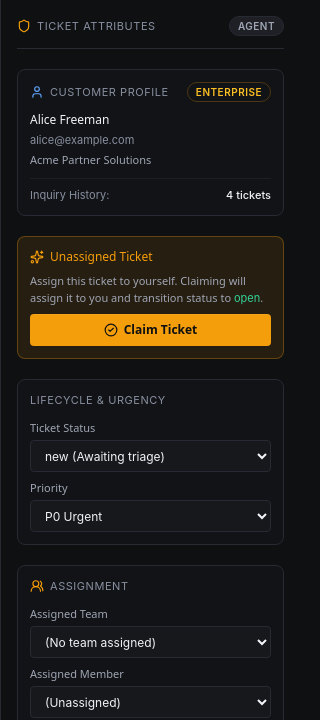
TicketCockpit.Inspector & TicketMetadataInspector (Issue #105) › renders 1-click Claim Ticket CTA for unassigned ticket and transitions status new -> open
This screenshot has width=320, height=720.
Expected: the text "Unassigned Ticket" is shown, x1=50 y1=249 x2=153 y2=265
Click the button with test id "claim-ticket-btn".
click(150, 330)  # box x1=30 y1=314 x2=271 y2=346
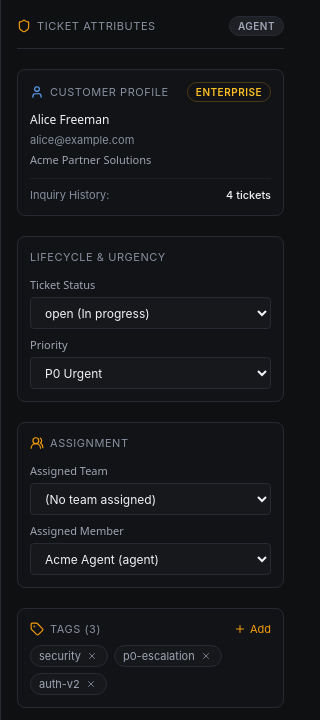
Result: the dropdown with test id "inspector-status-select" shows "open (In progress)" at x1=30 y1=297 x2=271 y2=329
Result: the dropdown with test id "inspector-member-select" shows "Acme Agent (agent)" at x1=30 y1=543 x2=271 y2=575
Result: the button with test id "claim-ticket-btn" is gone
